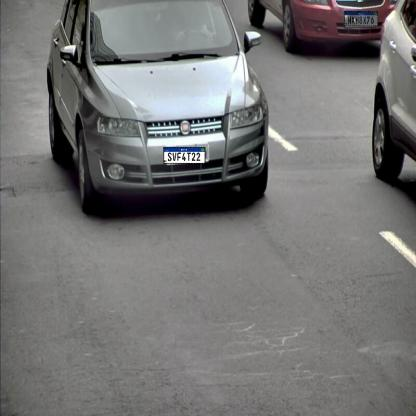PlacaM: (164, 147, 206, 164), (344, 11, 378, 26)
